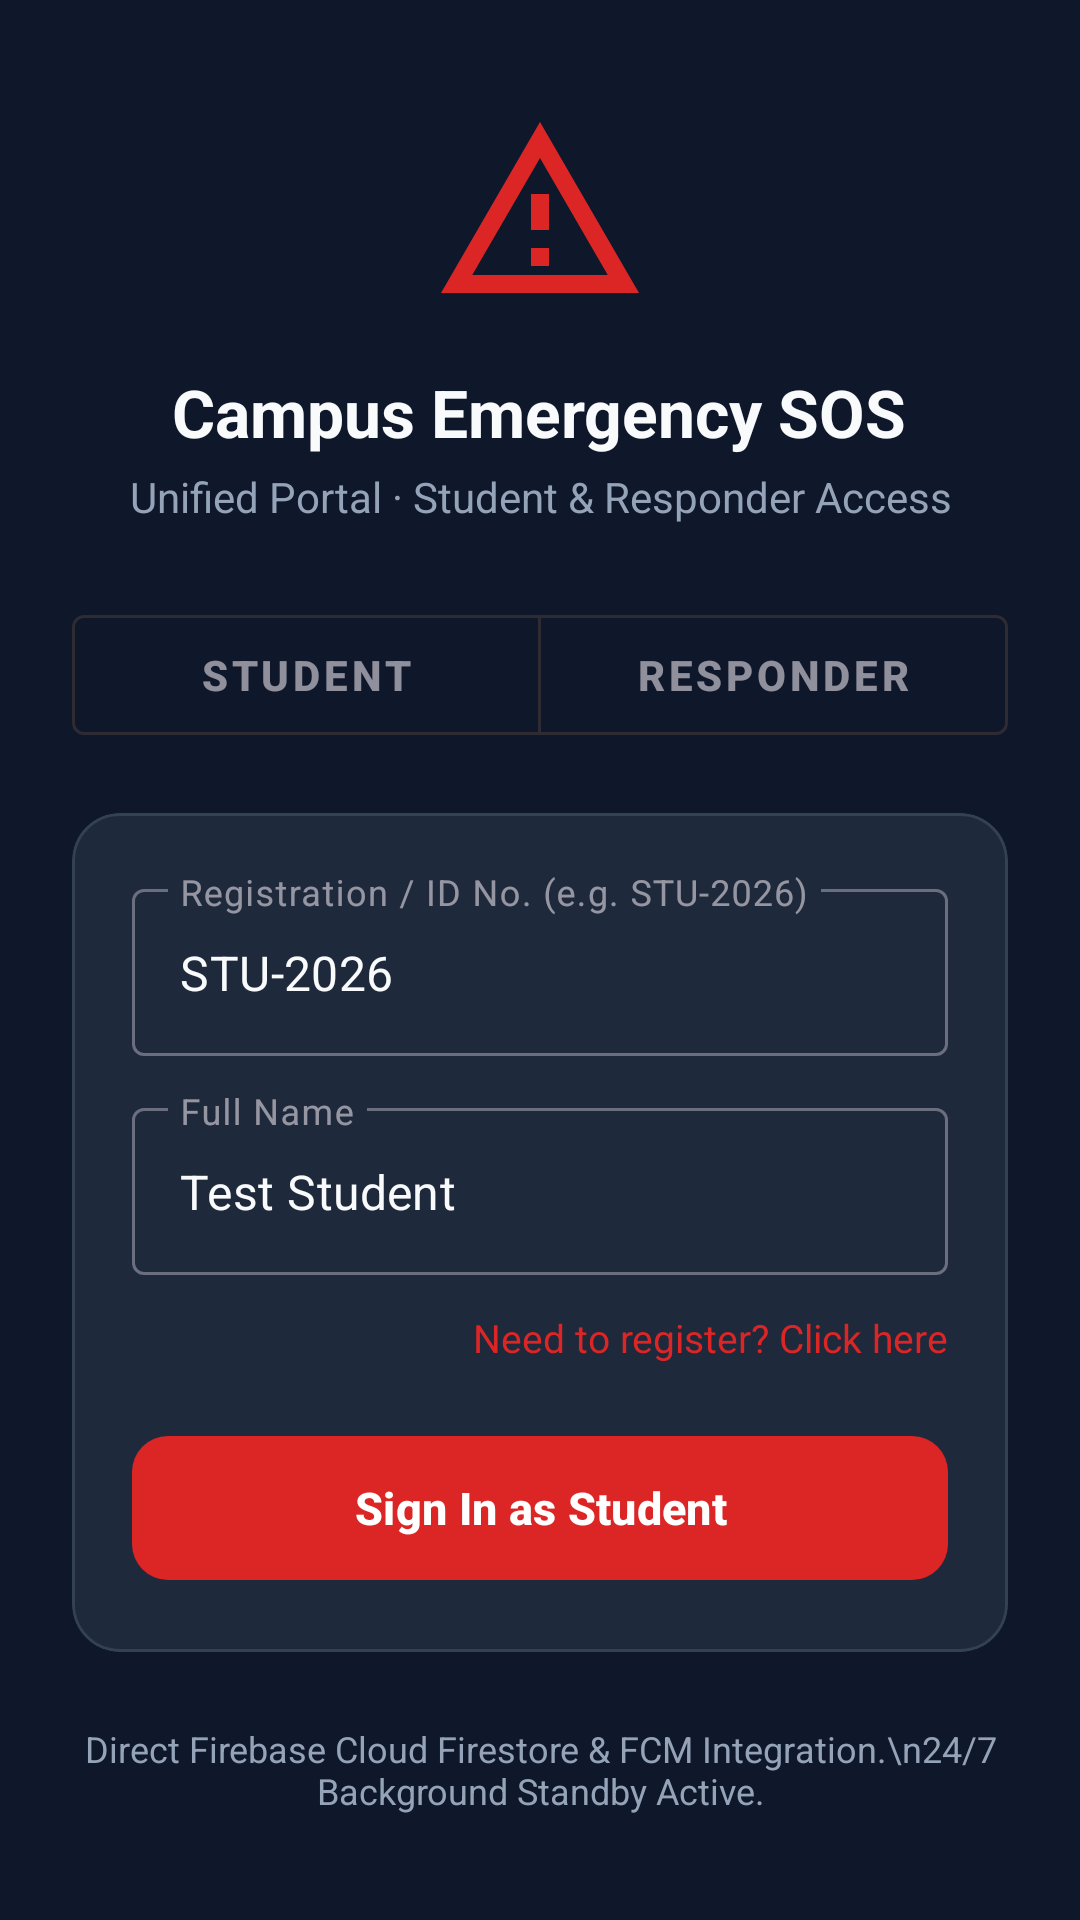

Where to tap for icons on this 1080px x 1920px app screen, as (x,y):
SOS Emblem: (540,207)
